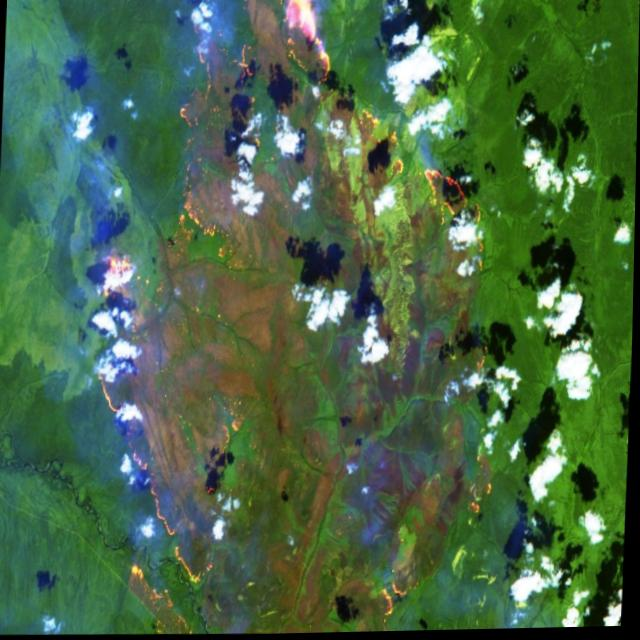fire: (66, 0, 517, 639)
